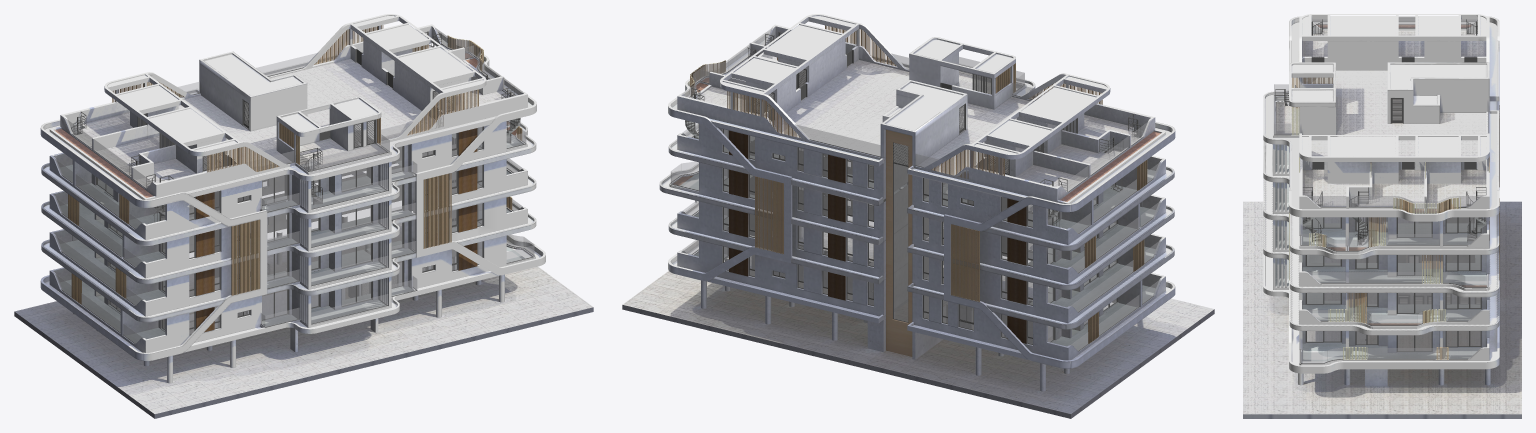
Rendered from type-a.glb.
The picture shows the model from 3 angles, left to right: view 1: azimuth 30°, elevation 25°; view 2: azimuth 150°, elevation 25°; view 3: azimuth 270°, elevation 25°; orthographic projection. The views are drawn at different scales.
Visible parts, largest first — view 1: Groun_ Floor001, ROOF_SHADE, RAILING - 017, ROOF_FLOOR, ROOF_DOORS000, ROOF_BOONGALOS_CENTER, WOOD_RAILING_01, FLOOR_04_L, FLOOR_02_L, FLOOR_03_L, FLOOR_01_R, BELT_L (+17 smaller); view 2: Groun_ Floor001, ROOF_SHADE, ROOF_FLOOR, ROOF_DOORS000, ROOF_BOONGALOS_CENTER, WOOD_RAILING_01, RAILING - 017, FLOOR_01_R, FLOOR_04_L, BELT_L, WOOD_PANNELS_001, FLOOR_02_R (+19 smaller); view 3: Groun_ Floor001, ROOF_FLOOR, ROOF_SHADE, ROOF_DOORS000, ROOF_BOONGALOS_CENTER, RAILING - 017, ROOF_BUNGALOS_01, WOOD_RAILING_01, BELT_R, FLOOR_03, FLOOR_002, FLOOR_04 (+16 smaller).
Part boxes in pixels (x1,y1,x2,y2): Groun_ Floor001: [14, 221, 593, 418]; ROOF_SHADE: [49, 14, 527, 199]; RAILING - 017: [54, 53, 534, 343]; ROOF_FLOOR: [45, 38, 532, 199]; ROOF_DOORS000: [71, 28, 522, 335]; ROOF_BOONGALOS_CENTER: [176, 51, 495, 197]; WOOD_RAILING_01: [68, 25, 522, 304]; FLOOR_04_L: [49, 128, 392, 239]; FLOOR_02_L: [49, 191, 408, 316]; FLOOR_03_L: [49, 163, 391, 278]; FLOOR_01_R: [237, 165, 535, 327]; BELT_L: [40, 119, 267, 360]; Groun_ Floor001: [622, 220, 1214, 418]; ROOF_SHADE: [677, 14, 1165, 203]; ROOF_FLOOR: [672, 39, 1170, 203]; ROOF_DOORS000: [682, 27, 1144, 344]; ROOF_BOONGALOS_CENTER: [710, 37, 1035, 201]; WOOD_RAILING_01: [690, 25, 1147, 343]; RAILING - 017: [670, 57, 1161, 351]; FLOOR_01_R: [677, 187, 1007, 316]; FLOOR_04_L: [912, 130, 1165, 244]; BELT_L: [944, 122, 1175, 368]; WOOD_PANNELS_001: [729, 130, 1026, 343]; FLOOR_02_R: [677, 148, 908, 280]; Groun_ Floor001: [1243, 201, 1521, 418]; ROOF_FLOOR: [1265, 22, 1497, 212]; ROOF_SHADE: [1299, 14, 1489, 212]; ROOF_DOORS000: [1275, 19, 1486, 351]; ROOF_BOONGALOS_CENTER: [1263, 41, 1499, 189]; RAILING - 017: [1274, 17, 1488, 363]; ROOF_BUNGALOS_01: [1302, 41, 1486, 183]; WOOD_RAILING_01: [1289, 77, 1499, 359]; BELT_R: [1289, 187, 1499, 373]; FLOOR_03: [1275, 182, 1486, 285]; FLOOR_002: [1275, 217, 1481, 323]; FLOOR_04: [1275, 144, 1481, 247].
Size of the model in its own units: 39.02 by 19.31 by 21.63.
44 materials, 36 textured.
